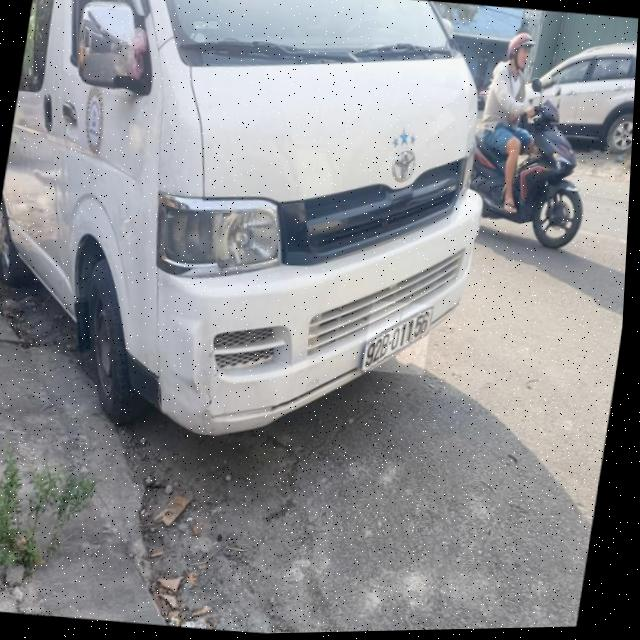car: (0, 0, 516, 471), (515, 11, 639, 176)
motorcycle: (486, 124, 597, 260)
plate: (353, 295, 447, 381)
